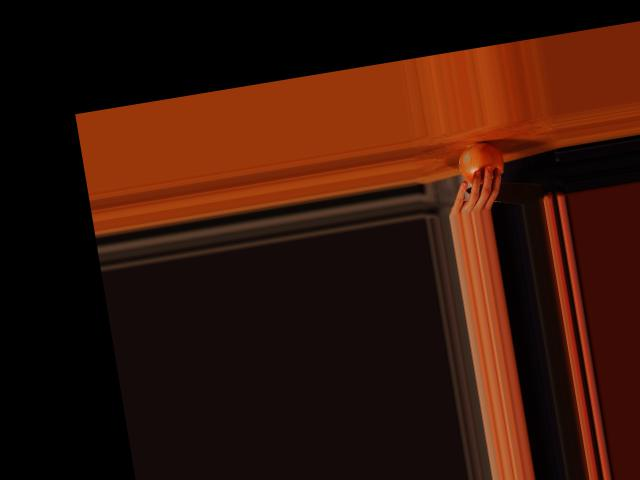onion: (456, 137, 507, 188)
